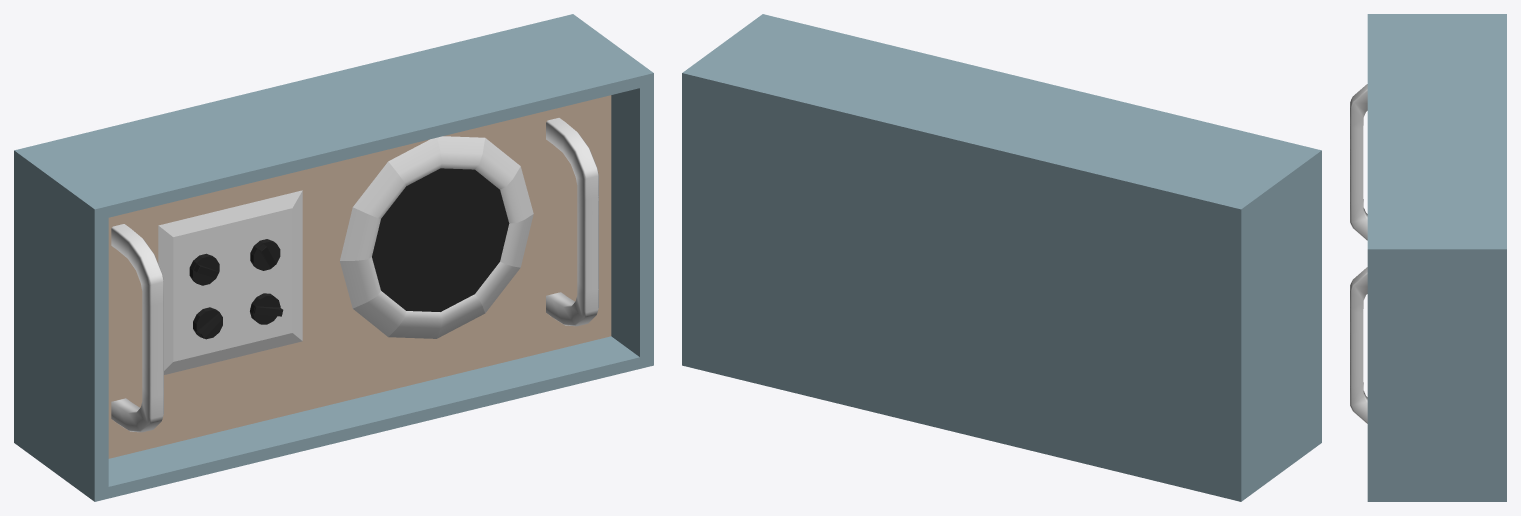
Rendered from Block3A.fbx.
The picture shows the model from 3 angles, left to right: view 1: azimuth 30°, elevation 25°; view 2: azimuth 150°, elevation 25°; view 3: azimuth 270°, elevation 25°; orthographic projection. The views are drawn at different scales.
Visible parts, largest first — view 1: Block3; view 2: Block3; view 3: Block3.
Boxes of the visible parts, box(x1,y1,x2,y2) form: Block3: box(14, 14, 653, 501); Block3: box(682, 14, 1321, 501); Block3: box(1350, 14, 1506, 501).
Bounding box in the file's own units: 2 × 1 × 0.5633.
